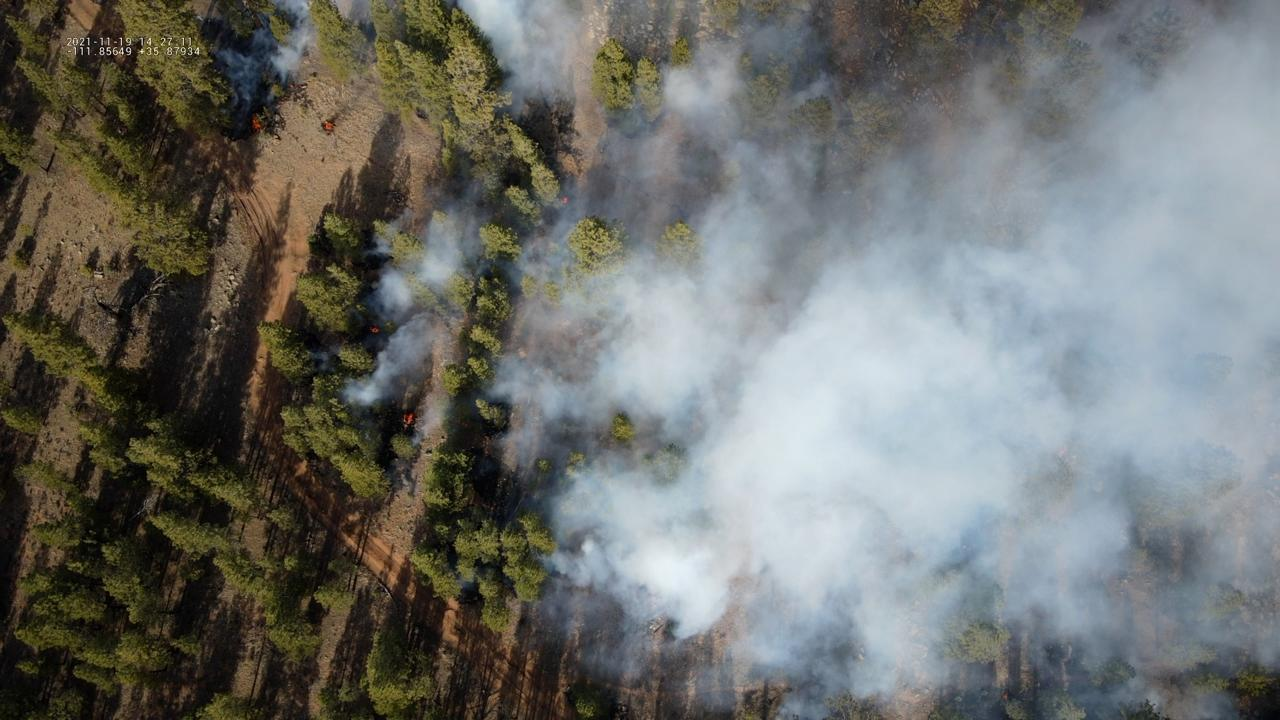fire: (402, 411, 414, 431), (251, 111, 262, 130), (322, 120, 335, 131), (368, 326, 381, 334), (561, 196, 571, 206), (1001, 691, 1010, 702)
smoke: (338, 0, 1280, 720), (211, 0, 312, 135), (305, 342, 340, 377)
